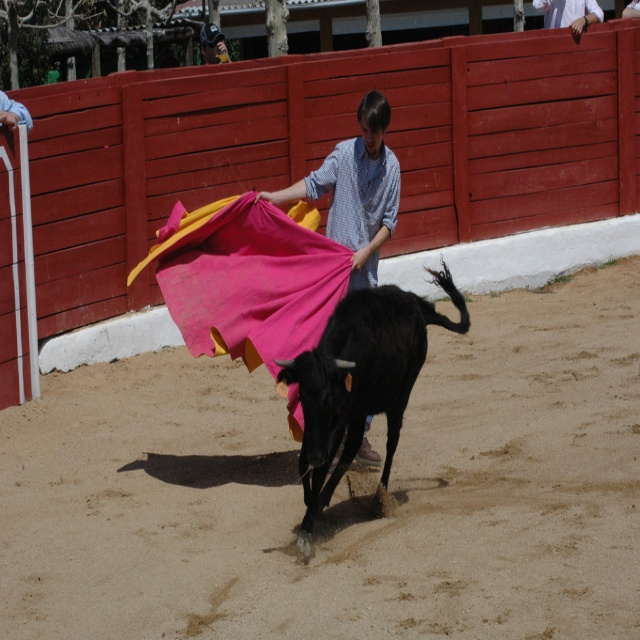Bull: (274, 262, 477, 559)
